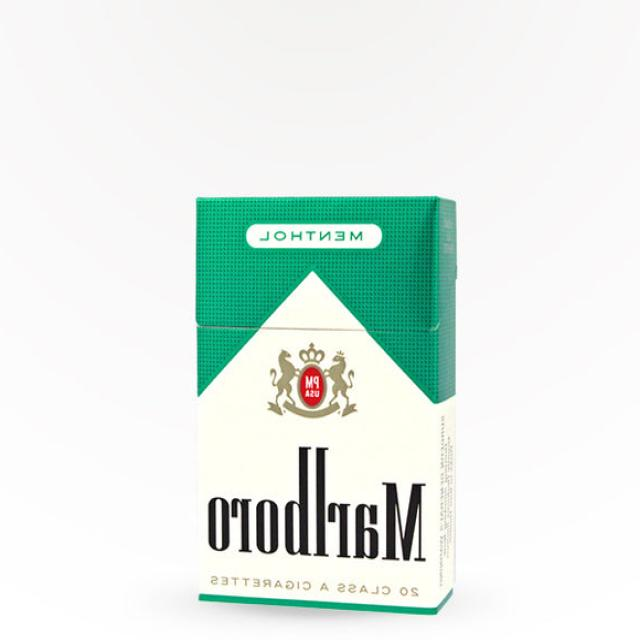marlboro: (190, 191, 465, 606)
